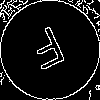F: (25, 25, 72, 80)
